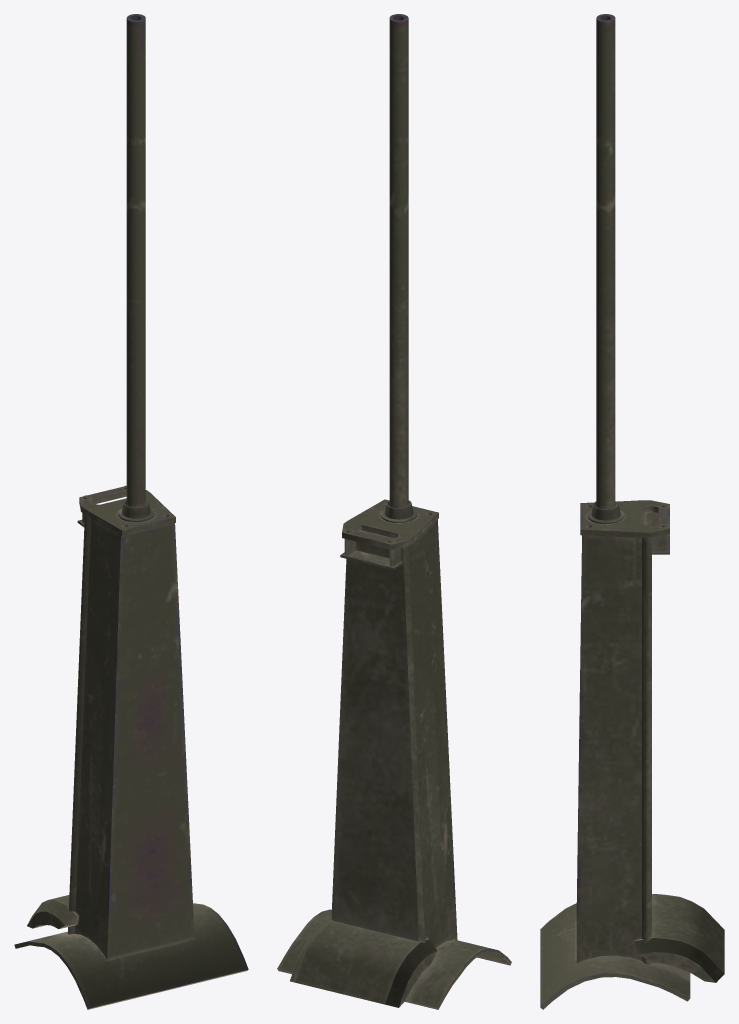
The model's file is Gun_05.glb.
3 renders of one model, left to right at view 1: azimuth 30°, elevation 25°; view 2: azimuth 150°, elevation 25°; view 3: azimuth 270°, elevation 25°, orthographic.
Parts seen in each view (by area): view 1: set_0_group_0; view 2: set_0_group_0; view 3: set_0_group_0.
Boxes of the visible parts, x1,y1,x2,y2 form: set_0_group_0: (14, 14, 248, 1009); set_0_group_0: (277, 14, 511, 1009); set_0_group_0: (540, 14, 724, 1009).
Bounding box in the file's own units: 0.4596 × 2.61 × 0.4586.
Materials: 1 (1 with a texture image).
